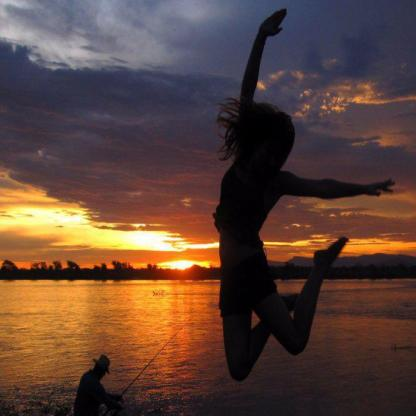other: (119, 215, 202, 279)
